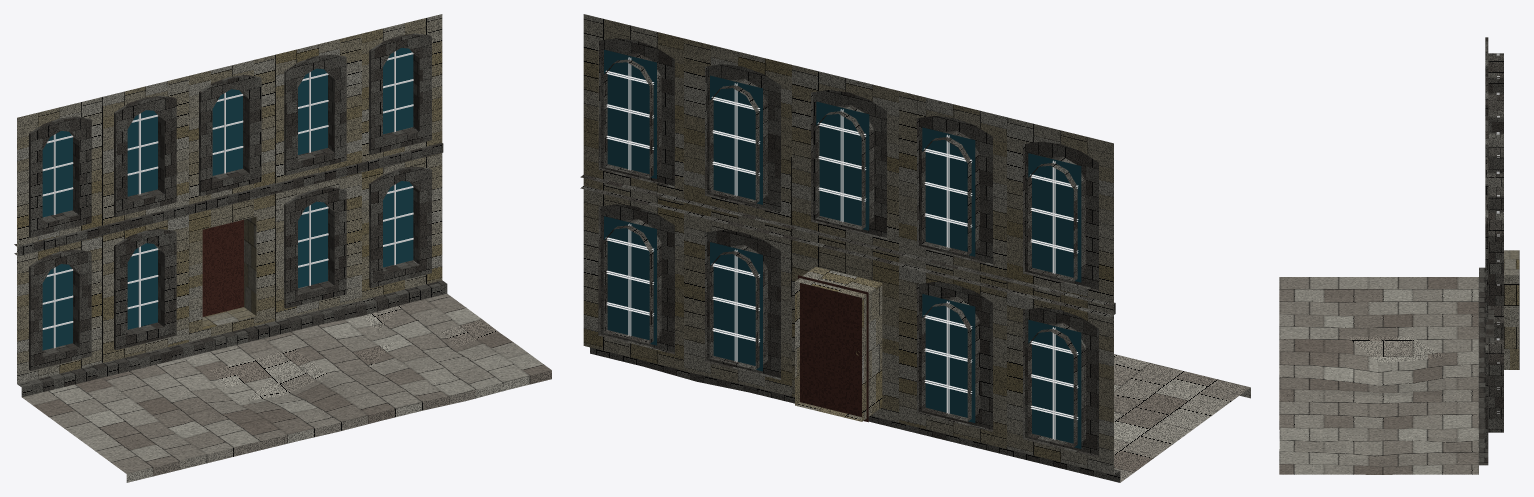
The model's file is building.glb.
3 renders of one model, left to right at view 1: azimuth 30°, elevation 25°; view 2: azimuth 150°, elevation 25°; view 3: azimuth 270°, elevation 25°, orthographic. The views are drawn at different scales.
Visible parts, largest first — view 1: Building; view 2: Building; view 3: Building.
Part boxes in pixels (bbox=[...]): Building: bbox=[14, 14, 551, 482]; Building: bbox=[580, 14, 1250, 482]; Building: bbox=[1279, 37, 1519, 474].
Bounding box in the file's own units: 24 × 15.45 × 12.32.
Materials: 1 (1 with a texture image).
